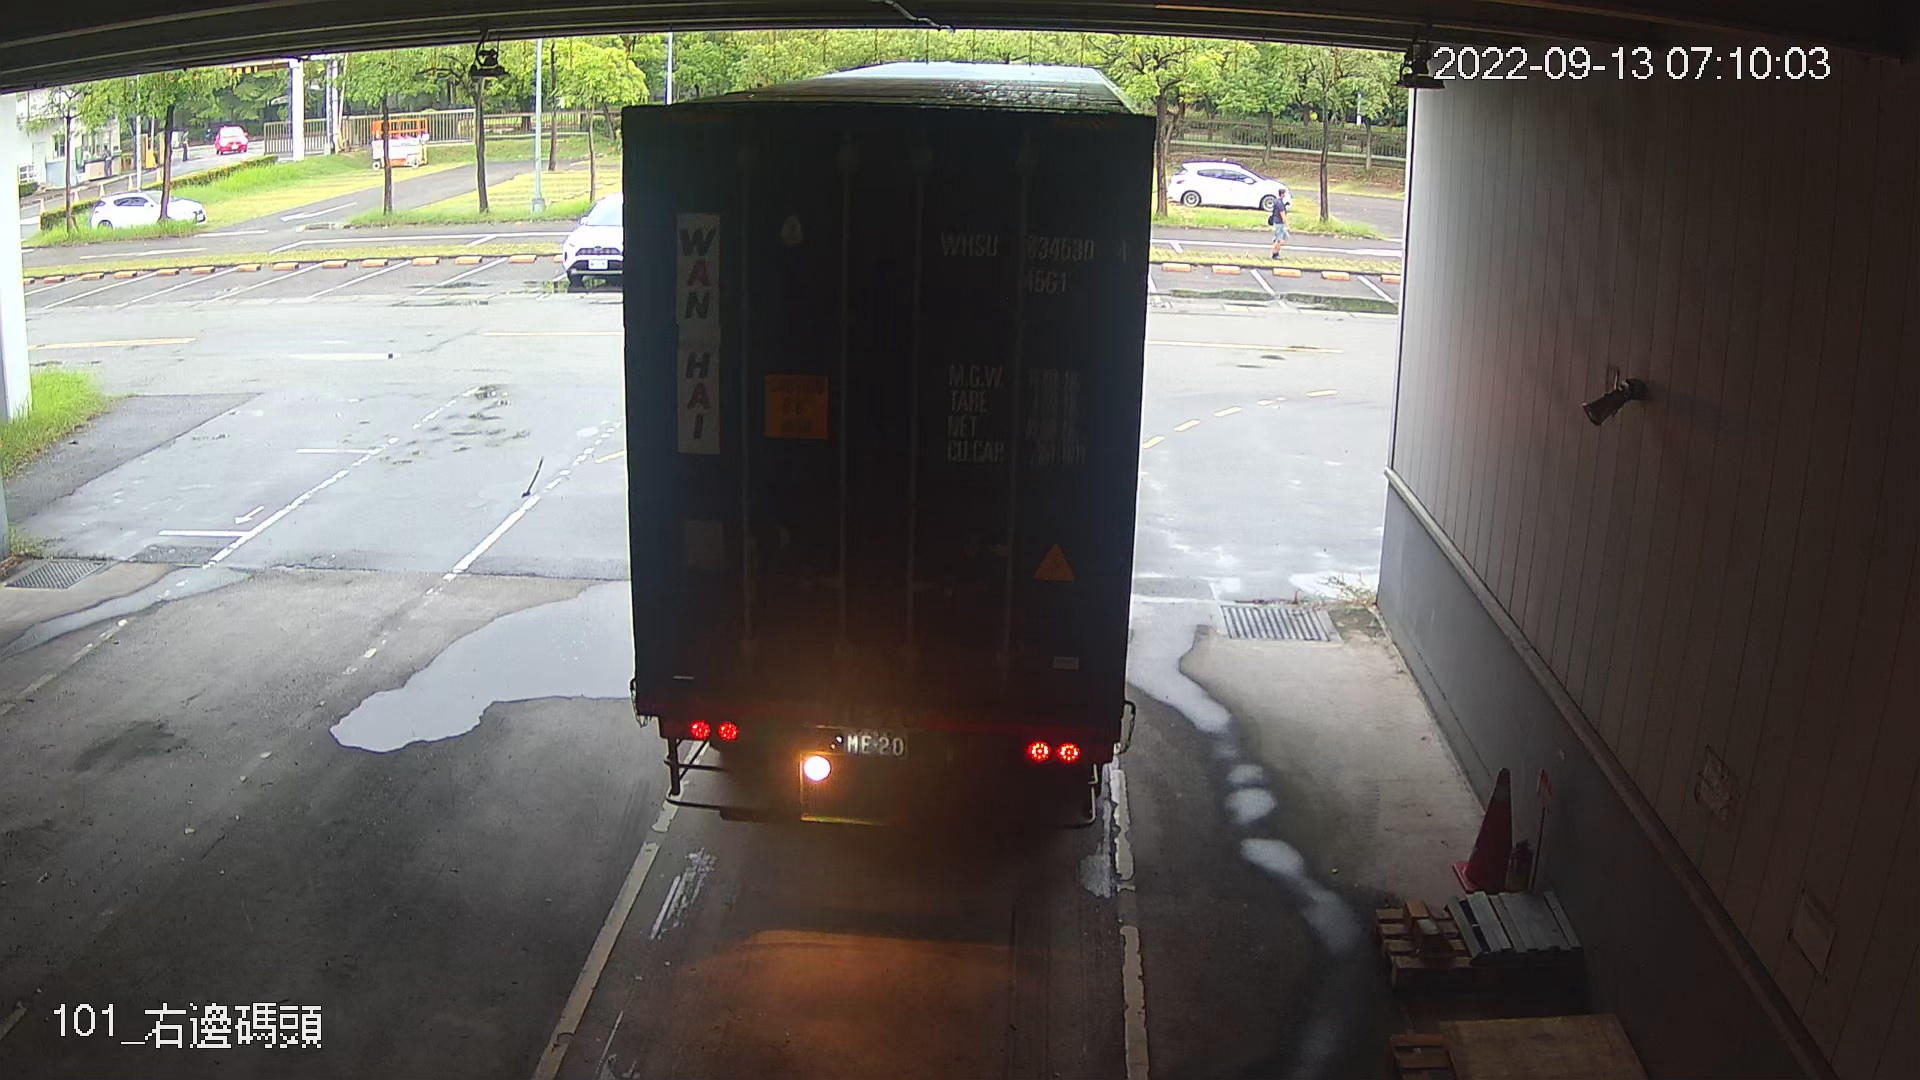container: (928, 218, 1135, 301)
